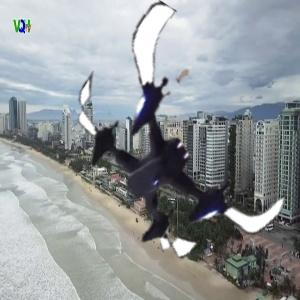drone: (56, 34, 300, 279)
